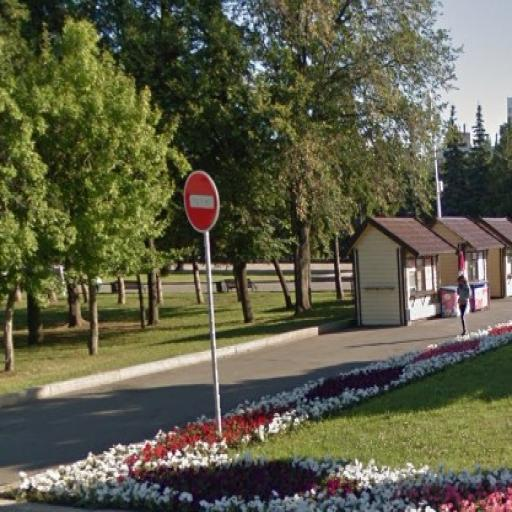traffic_sign: (183, 169, 222, 236)
